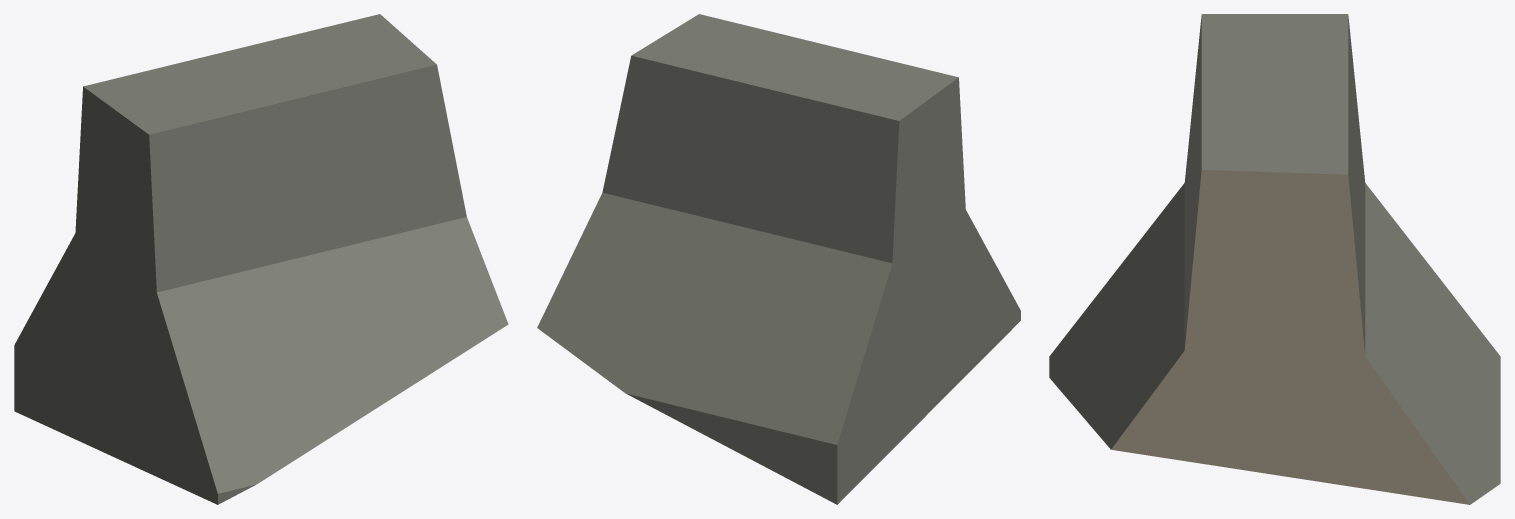
3 renders of one model, left to right at view 1: azimuth 30°, elevation 25°; view 2: azimuth 150°, elevation 25°; view 3: azimuth 270°, elevation 25°, orthographic. The views are drawn at different scales.
Visible parts, largest first — view 1: concreto_quebra_2; view 2: concreto_quebra_2; view 3: concreto_quebra_2.
Boxes of the visible parts, x1,y1,x2,y2 form: concreto_quebra_2: (14,14,508,504); concreto_quebra_2: (537,14,1020,504); concreto_quebra_2: (1049,14,1500,504).
Bounding box in the file's own units: 0.7866 × 0.814 × 0.8.
Materials: 1 (1 with a texture image).
